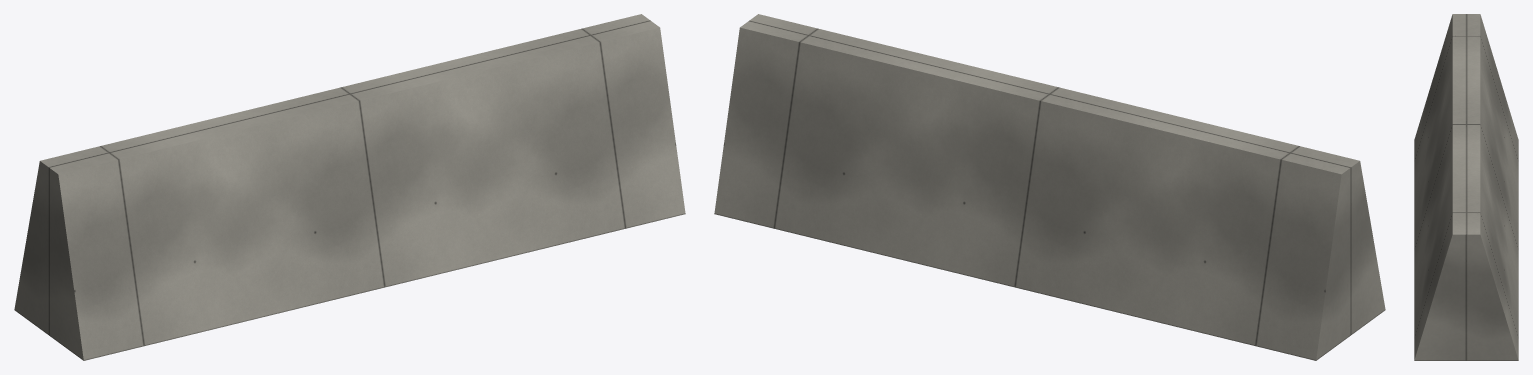
File: jersey_barrier.glb
3 views of the same model, side by side, from view 1: azimuth 30°, elevation 25°; view 2: azimuth 150°, elevation 25°; view 3: azimuth 270°, elevation 25° (orthographic). The views are drawn at different scales.
Parts seen in each view (by area): view 1: jersey_barrier; view 2: jersey_barrier; view 3: jersey_barrier.
Boxes of the visible parts, left/top/right/bottom form: jersey_barrier: left=14, top=14, right=685, bottom=360; jersey_barrier: left=714, top=14, right=1385, bottom=360; jersey_barrier: left=1414, top=14, right=1518, bottom=360.
Size of the model in its own units: 3 by 0.8 by 0.6.
Materials: 1 (1 with a texture image).
